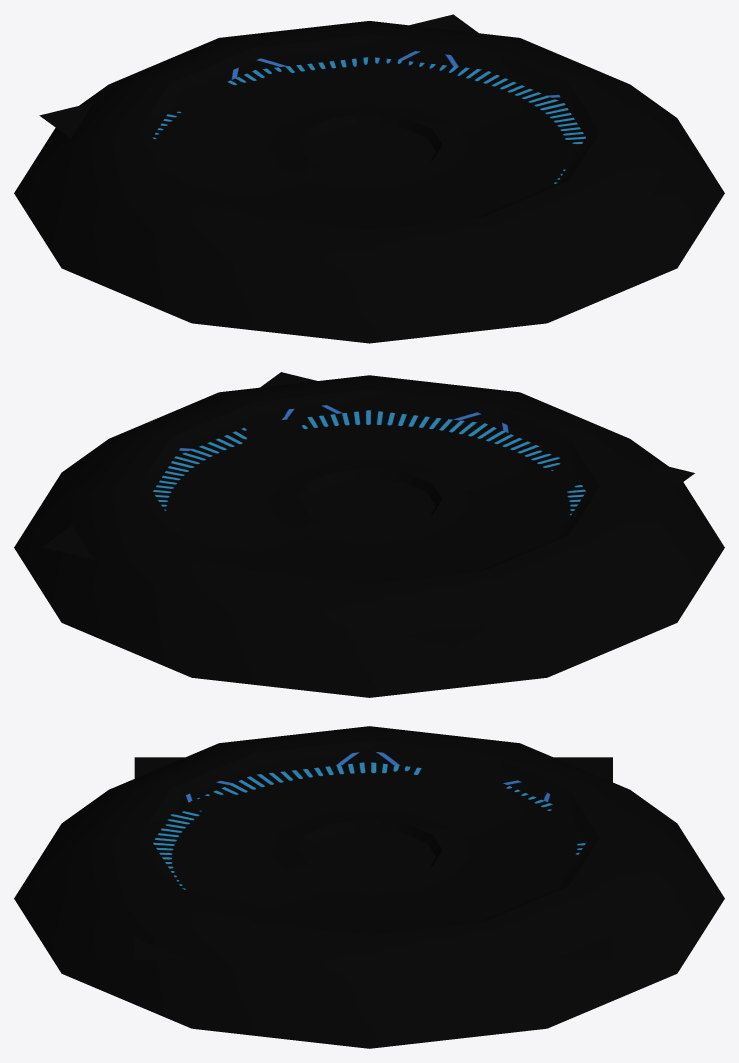
File: Plate_Full.fbx
The picture shows the model from 3 angles, top to bottom: view 1: azimuth 30°, elevation 25°; view 2: azimuth 150°, elevation 25°; view 3: azimuth 270°, elevation 25°; orthographic projection.
Visible parts, largest first — view 1: Cube, Plane.003, Cube.001; view 2: Cube, Plane.003, Cube.001; view 3: Cube, Plane.003, Cube.001.
Boxes of the visible parts, x1,y1,x2,y2 form: Cube: [14, 21, 724, 343]; Plane.003: [39, 14, 692, 290]; Cube.001: [174, 46, 563, 103]; Cube: [14, 375, 724, 697]; Plane.003: [42, 372, 694, 647]; Cube.001: [175, 400, 563, 456]; Cube: [14, 726, 724, 1048]; Plane.003: [134, 757, 612, 959]; Cube.001: [175, 751, 564, 809].
Size of the model in its own units: 121 by 11.44 by 121.
